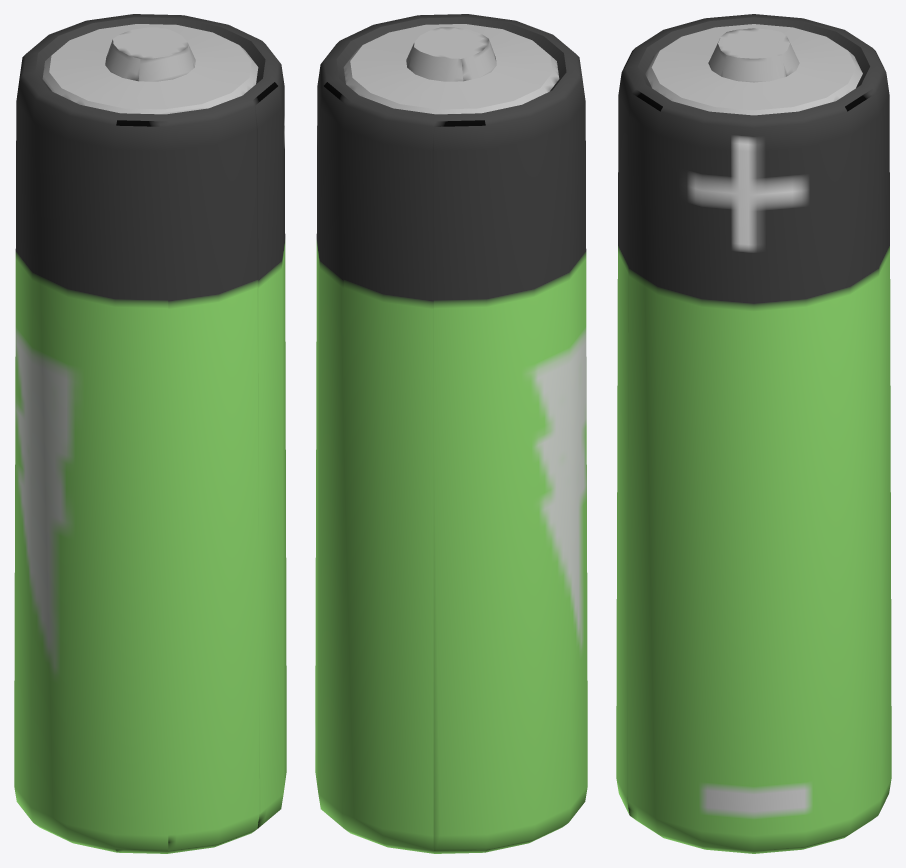
File: Battery001.FBX
3 renders of one model, left to right at view 1: azimuth 30°, elevation 25°; view 2: azimuth 150°, elevation 25°; view 3: azimuth 270°, elevation 25°, orthographic.
Parts seen in each view (by area): view 1: Box003; view 2: Box003; view 3: Box003.
Part boxes in pixels (box(x1,y1,x2,y2)): Box003: box(14, 14, 286, 853); Box003: box(315, 14, 587, 853); Box003: box(616, 14, 891, 853).
Size of the model in its own units: 4.6 by 14.06 by 4.6.
